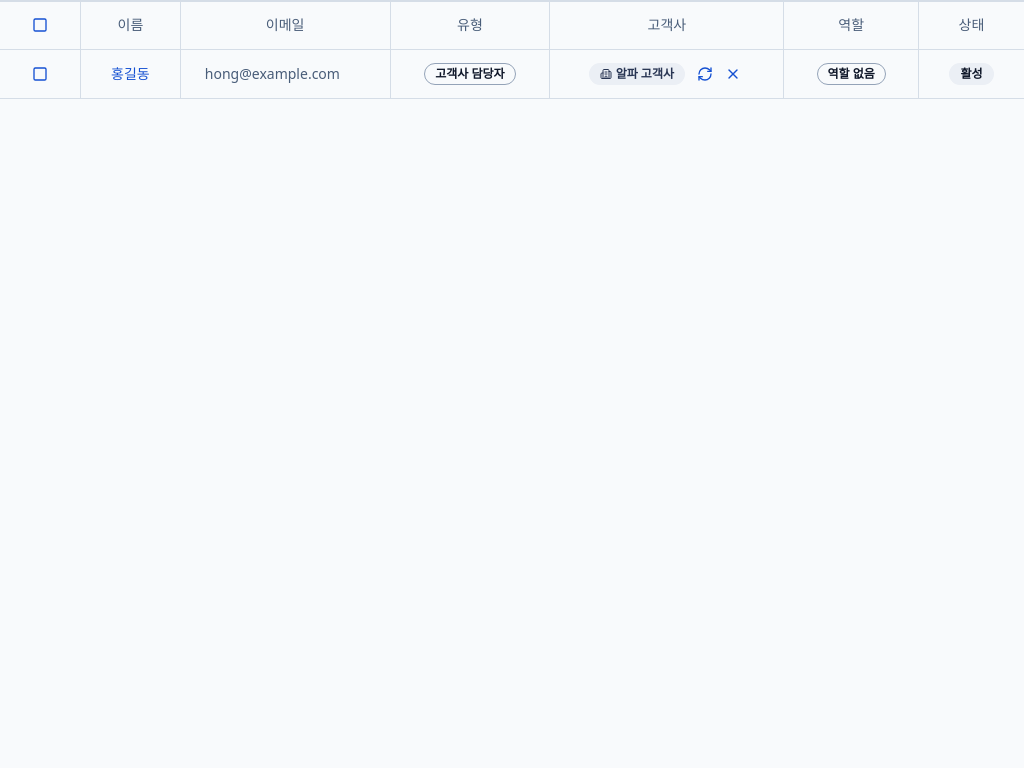
Test: UserTable — 소속 고객사 변경/해제 › 변경 확인 다이얼로그를 취소하면 닫히고 강제 요청도 나가지 않는다
This screenshot has width=1024, height=768.
Click the button named "홍길동 고객사 변경". click: x=705, y=74
box: [693, 62, 717, 86]
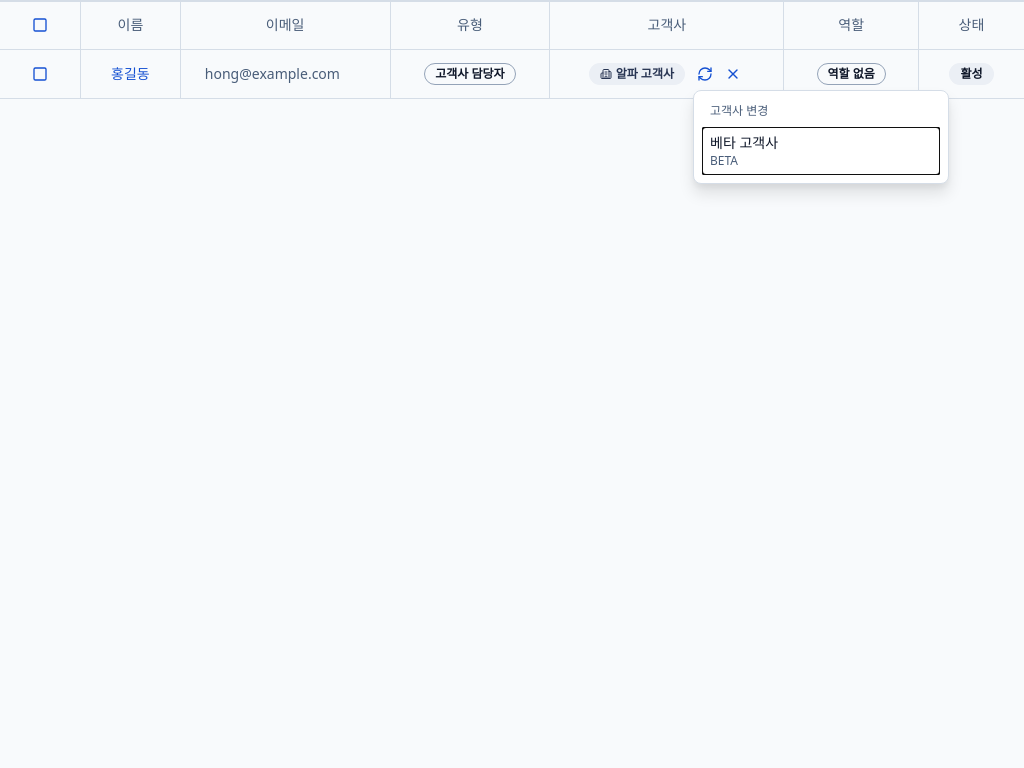
Click the text "베타 고객사". click: x=744, y=142
box: [710, 133, 778, 152]
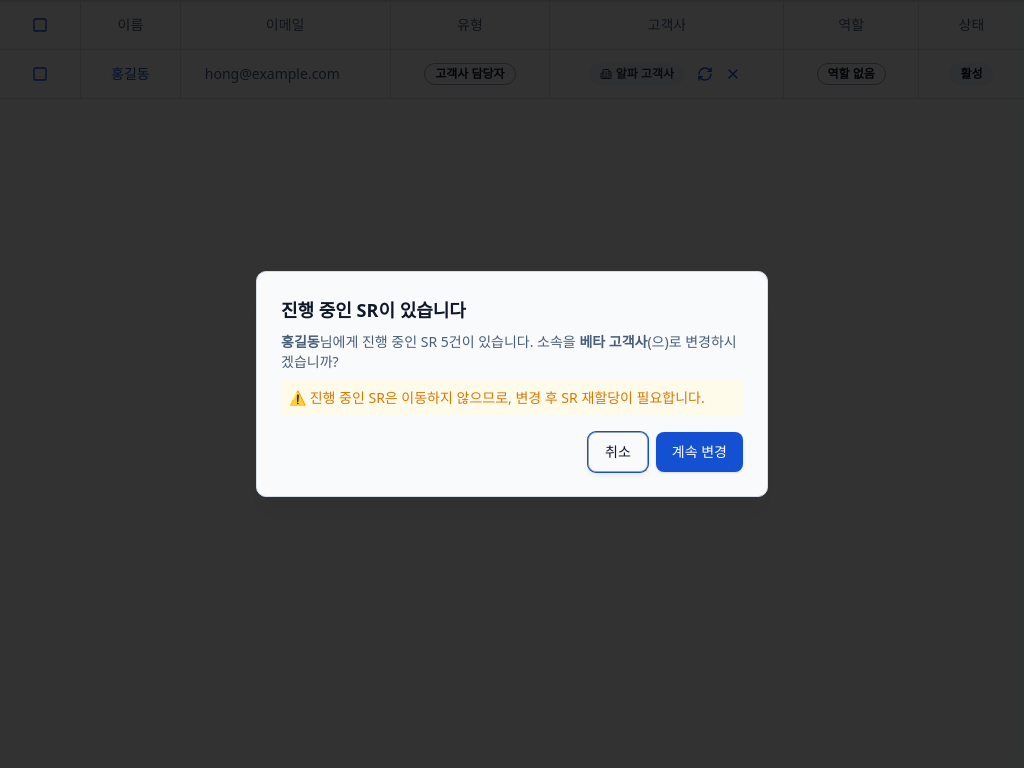
Result: the heading "진행 중인 SR이 있습니다" is shown at [281, 298, 466, 322]
Click the button "취소". click: x=618, y=452
box: [588, 432, 648, 472]
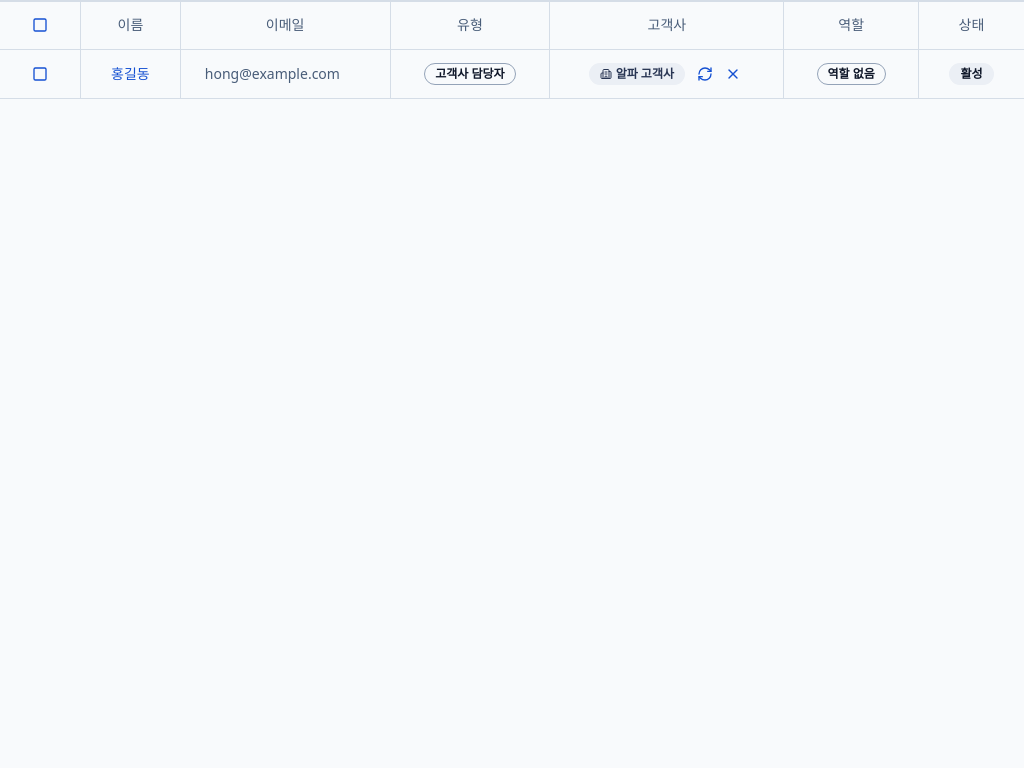
Result: the heading "진행 중인 SR이 있습니다" is gone
